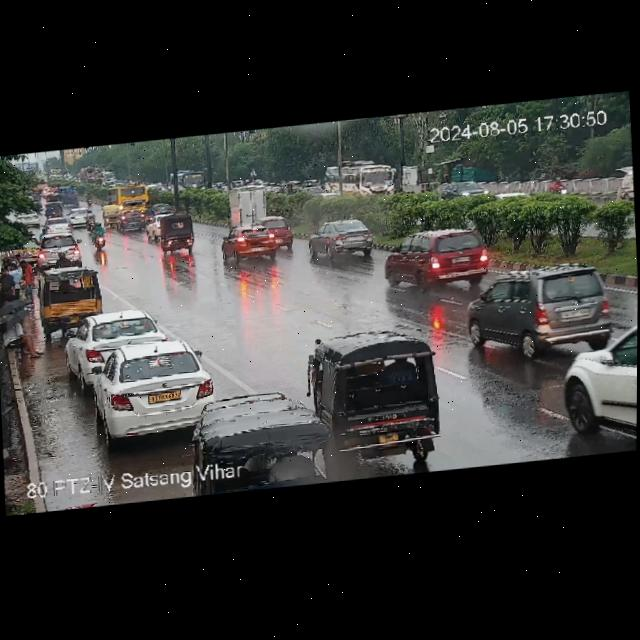bus: (325, 159, 400, 207), (105, 182, 149, 214), (170, 168, 205, 196)
car: (309, 321, 449, 469), (461, 258, 616, 361), (92, 342, 212, 443), (563, 320, 637, 442), (58, 304, 165, 382), (385, 222, 489, 291), (302, 209, 377, 269), (40, 267, 106, 333), (217, 221, 276, 269), (32, 230, 84, 271), (159, 213, 197, 252), (260, 213, 294, 252), (146, 214, 180, 239), (441, 179, 490, 196), (117, 208, 144, 233), (16, 208, 42, 233), (42, 215, 75, 234), (99, 203, 122, 226), (68, 206, 92, 228), (151, 200, 176, 217), (44, 199, 65, 219), (287, 181, 302, 195), (233, 180, 246, 189)
motorcycle: (549, 173, 569, 195), (89, 221, 104, 250)
person: (1, 303, 39, 365), (20, 254, 35, 299), (0, 261, 16, 301), (9, 252, 21, 296)
truck: (226, 184, 270, 229), (58, 185, 80, 206), (82, 165, 105, 184)
